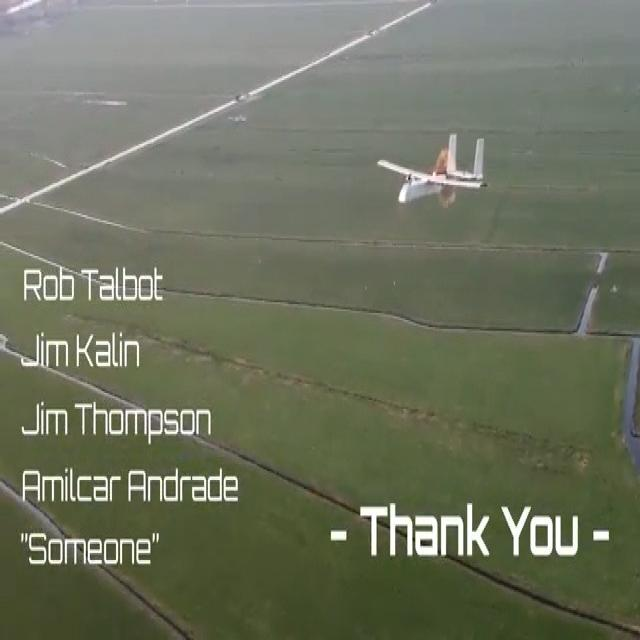iha: (406, 163, 458, 191)
